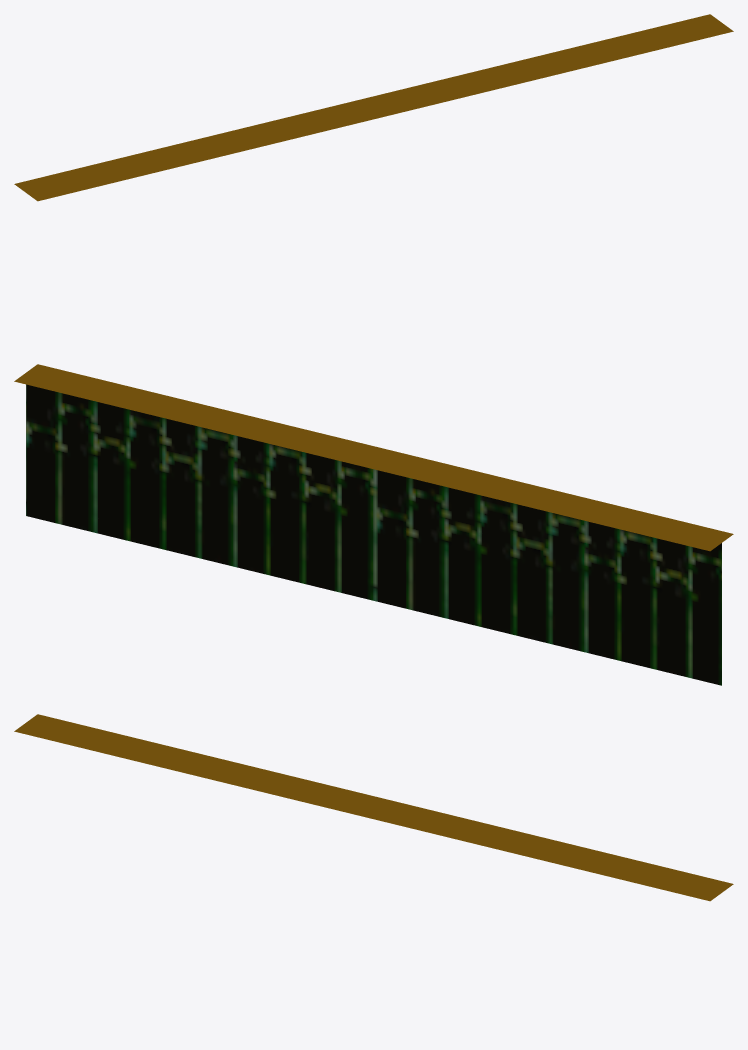
Rendered from Geländer1.5 [GrünesMetall]_614.glb.
3 views of the same model, one above another, from view 1: azimuth 30°, elevation 25°; view 2: azimuth 150°, elevation 25°; view 3: azimuth 330°, elevation 25° (orthographic).
Visible parts, largest first — view 1: pPlaneShape228; view 2: pPlaneShape227, pPlaneShape228; view 3: pPlaneShape228.
Boxes of the visible parts, bbox=[...] form: pPlaneShape228: bbox=[14, 14, 733, 201]; pPlaneShape227: bbox=[26, 384, 721, 685]; pPlaneShape228: bbox=[14, 364, 733, 551]; pPlaneShape228: bbox=[14, 714, 733, 901].
Size of the model in its own units: 0.4125 by 0.081 by 0.0243.
Materials: 2 (1 with a texture image).
